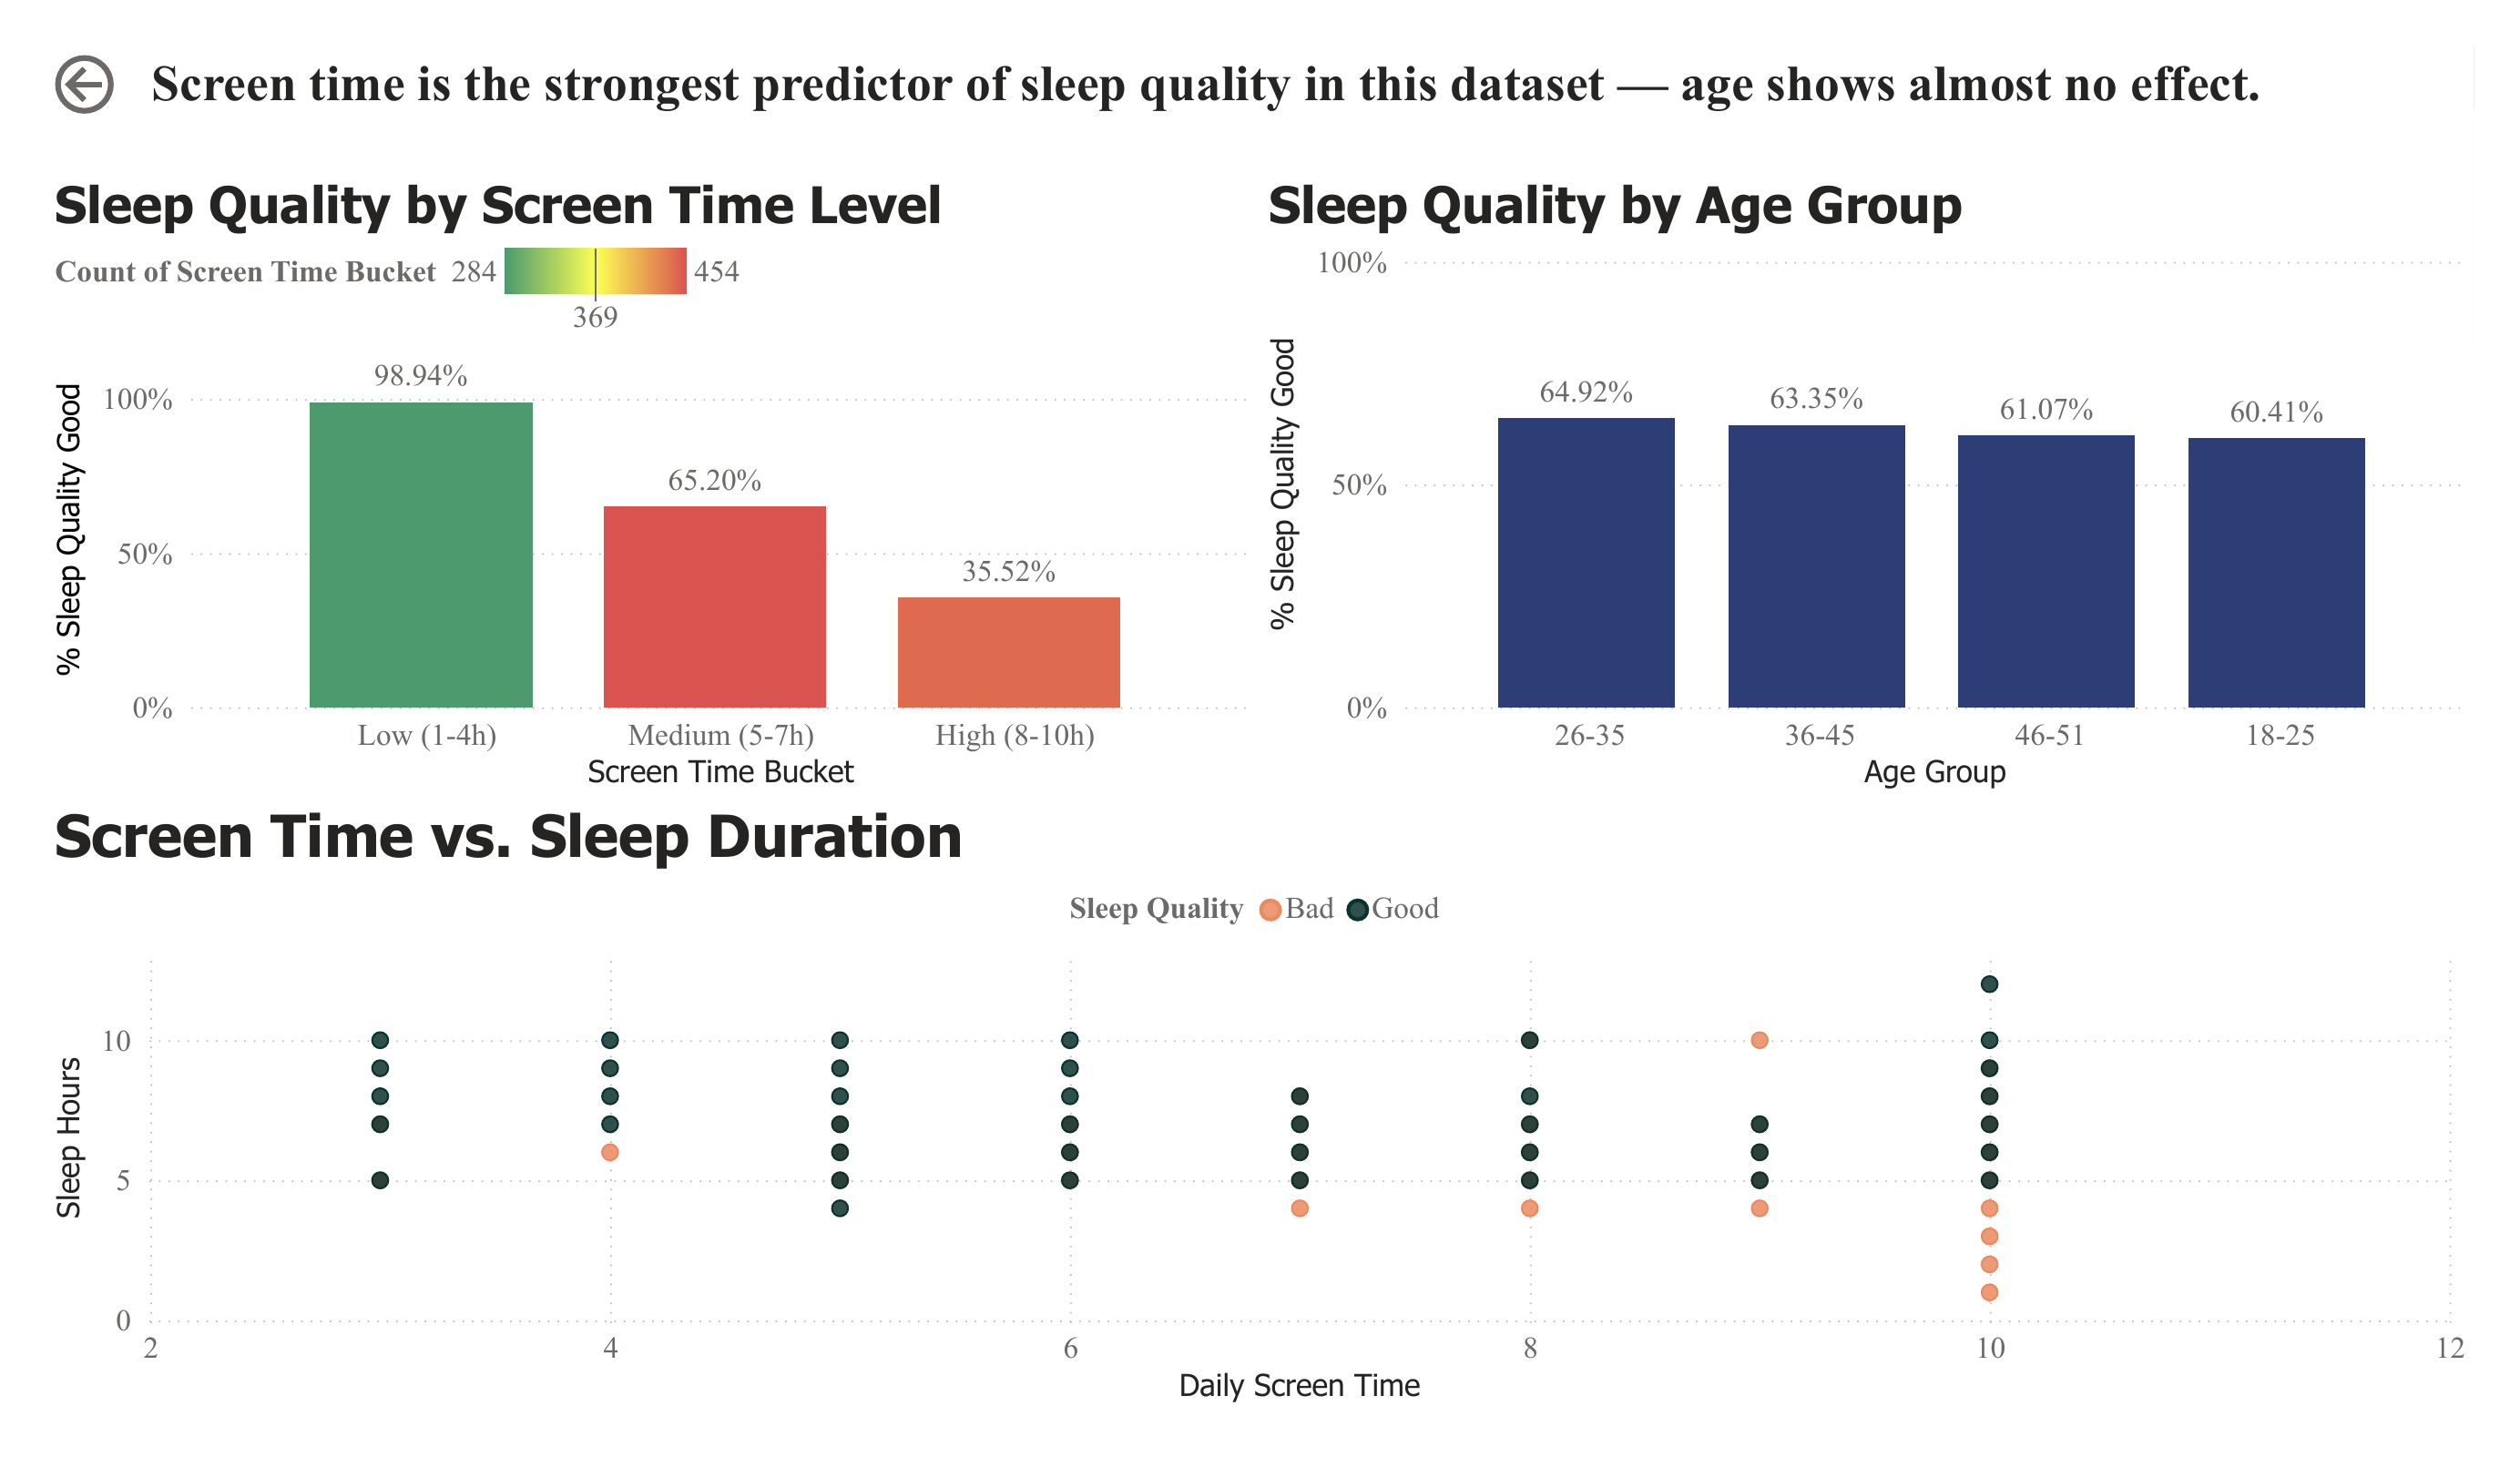

The page's visual inventory and layout, read from the dashboard file:
{"tool":"powerbi","page":{"name":"Page 2 Eng","canvas":[1280,720],"ordinal":2},"visuals":[{"type":"clusteredColumnChart","title":"Sleep Quality by Screen Time Level","fields":{"Category":["sleep_data_for_powerbi.Screen Time Bucket"],"Y":["sleep_data_for_powerbi.% Sleep Quality Good"]},"box":[0,66.6,640,330.1],"z":0},{"type":"clusteredColumnChart","title":"Sleep Quality by Age Group","fields":{"Category":["sleep_data_for_powerbi.Age Group"],"Y":["sleep_data_for_powerbi.% Sleep Quality Good"]},"box":[640,66.6,640,330.1],"z":1000},{"type":"scatterChart","title":"Screen Time vs. Sleep Duration","fields":{"X":["sleep_data_for_powerbi.Daily Screen Time"],"Y":["sleep_data_for_powerbi.Sleep Hours"],"Series":["sleep_data_for_powerbi.Sleep Quality"]},"box":[0,396.7,1280,322.9],"z":2000},{"type":"textbox","box":[50.7,0,1229.3,56.5],"z":3000},{"type":"actionButton","box":[0,0,99.9,40.5],"z":4000}]}

Visuals, with their boxes on the page's 1280x720 design canvas (x1, y1, x2, y2). These are canvas units, not pixel positions in the 2520x1457 screenshot, which may show the page scaled, cropped or inside an application window:
"Sleep Quality by Screen Time Level" clusteredColumnChart: <bbox>0, 67, 640, 397</bbox>
"Sleep Quality by Age Group" clusteredColumnChart: <bbox>640, 67, 1280, 397</bbox>
"Screen Time vs. Sleep Duration" scatterChart: <bbox>0, 397, 1280, 720</bbox>
textbox: <bbox>51, 0, 1280, 56</bbox>
actionButton: <bbox>0, 0, 100, 40</bbox>
